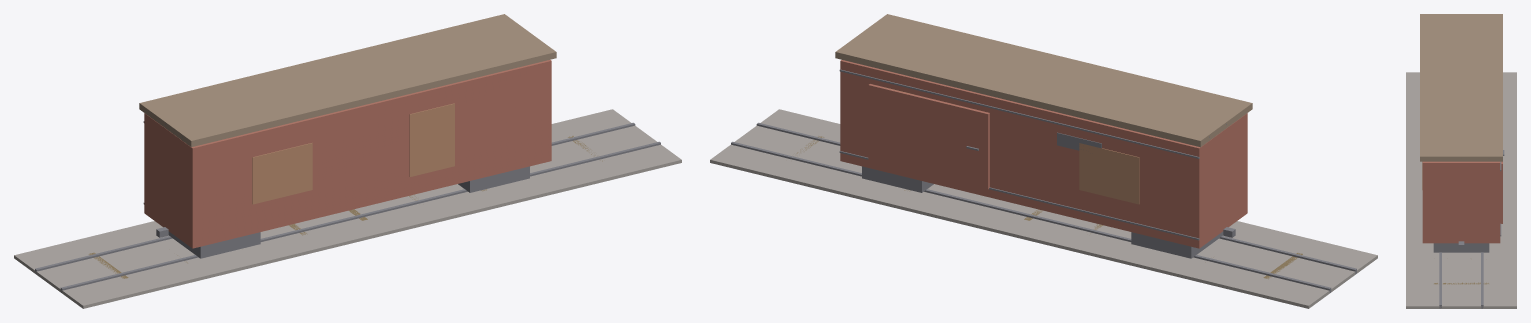
Rendered from train_boxcar_derelict.glb.
3 views of the same model, side by side, from view 1: azimuth 30°, elevation 25°; view 2: azimuth 150°, elevation 25°; view 3: azimuth 270°, elevation 25° (orthographic). The views are drawn at different scales.
Visible parts, largest first — view 1: body, gravel, roof, rust_4, rust_5, rail_r, bogie_l, rail_l, bogie_r; view 2: body, gravel, roof, door_l_open, rust_1, rail_l, door_l_top, bogie_l, rail_r, bogie_r, door_l_track; view 3: roof, gravel, body, bogie_r, door_l_open, rail_l, rail_r.
Part boxes in pixels (x1,y1,x2,y2): body: [144, 60, 551, 248]; gravel: [14, 109, 681, 308]; roof: [139, 14, 556, 147]; rust_4: [252, 143, 312, 204]; rust_5: [409, 103, 454, 176]; rail_r: [60, 141, 660, 292]; bogie_l: [168, 231, 260, 258]; rail_l: [35, 122, 635, 274]; bogie_r: [458, 166, 529, 192]; body: [840, 60, 1247, 248]; gravel: [710, 109, 1377, 308]; roof: [835, 14, 1252, 147]; door_l_open: [868, 84, 989, 189]; rust_1: [1079, 143, 1139, 204]; rail_l: [731, 141, 1331, 292]; door_l_top: [839, 69, 1199, 158]; bogie_l: [1131, 231, 1223, 258]; rail_r: [756, 122, 1356, 274]; bogie_r: [862, 166, 933, 192]; door_l_track: [839, 151, 1199, 240]; roof: [1420, 14, 1502, 161]; gravel: [1406, 72, 1516, 308]; body: [1422, 161, 1500, 243]; bogie_r: [1433, 243, 1489, 252]; door_l_open: [1500, 161, 1502, 223]; rail_l: [1481, 252, 1483, 308]; rail_r: [1439, 252, 1441, 308].
Size of the model in its own units: 20 by 4.3 by 4.
